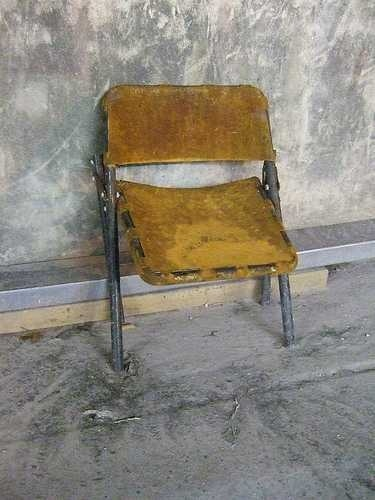obstacle: (97, 84, 296, 369)
